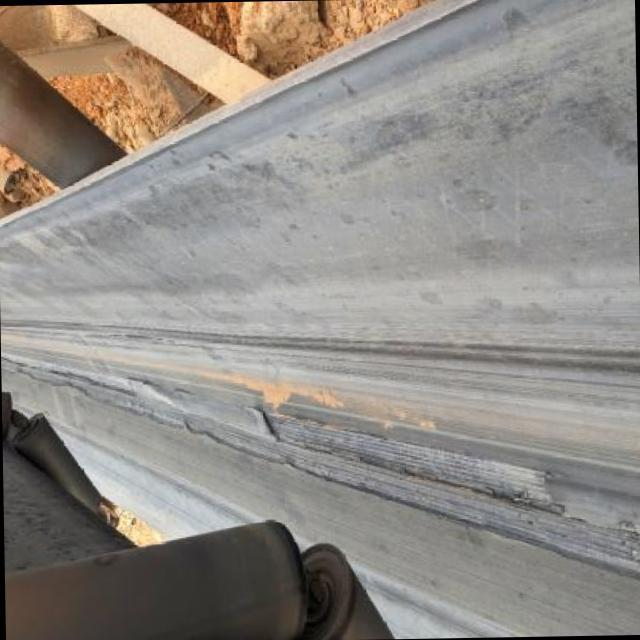Tear: (0, 348, 640, 581)
